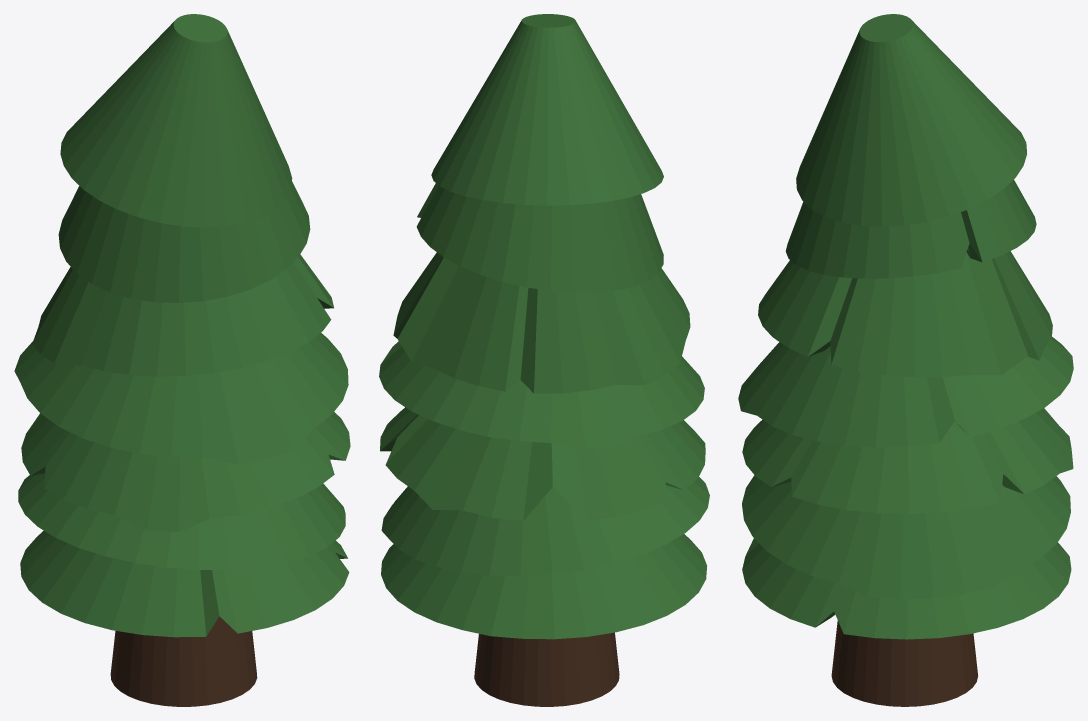
File: tree2.glb
3 renders of one model, left to right at view 1: azimuth 30°, elevation 25°; view 2: azimuth 150°, elevation 25°; view 3: azimuth 270°, elevation 25°, orthographic.
Visible parts, largest first — view 1: Cylinder, Cylinder.001; view 2: Cylinder, Cylinder.001; view 3: Cylinder, Cylinder.001.
Boxes of the visible parts, box(x1,y1,x2,y2) form: Cylinder: box(14, 14, 350, 637); Cylinder.001: box(110, 616, 257, 706); Cylinder: box(379, 14, 709, 639); Cylinder.001: box(474, 632, 619, 706); Cylinder: box(738, 14, 1073, 639); Cylinder.001: box(831, 620, 977, 706).
Size of the model in its own units: 7.39 by 16.06 by 7.44.
